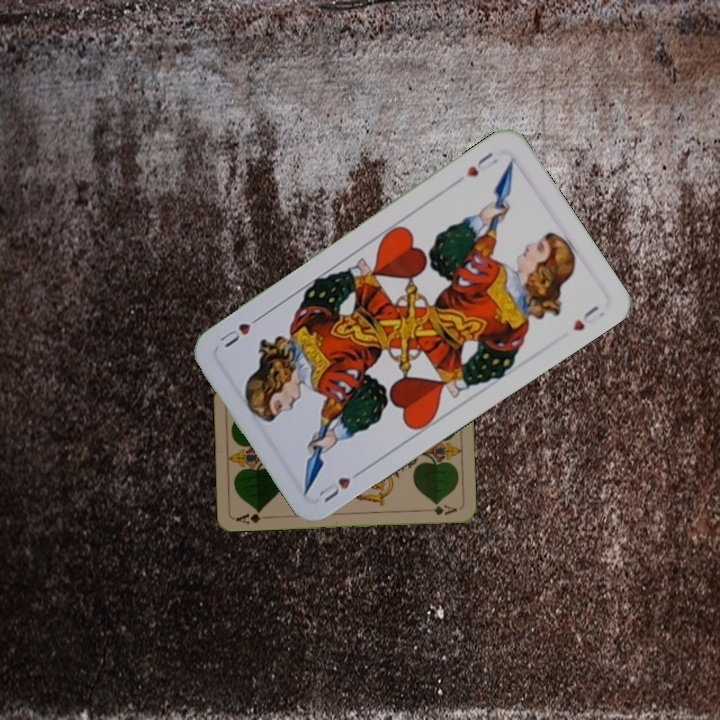GA: (232, 506, 272, 526)
HU: (314, 465, 367, 505), (461, 148, 501, 180)
